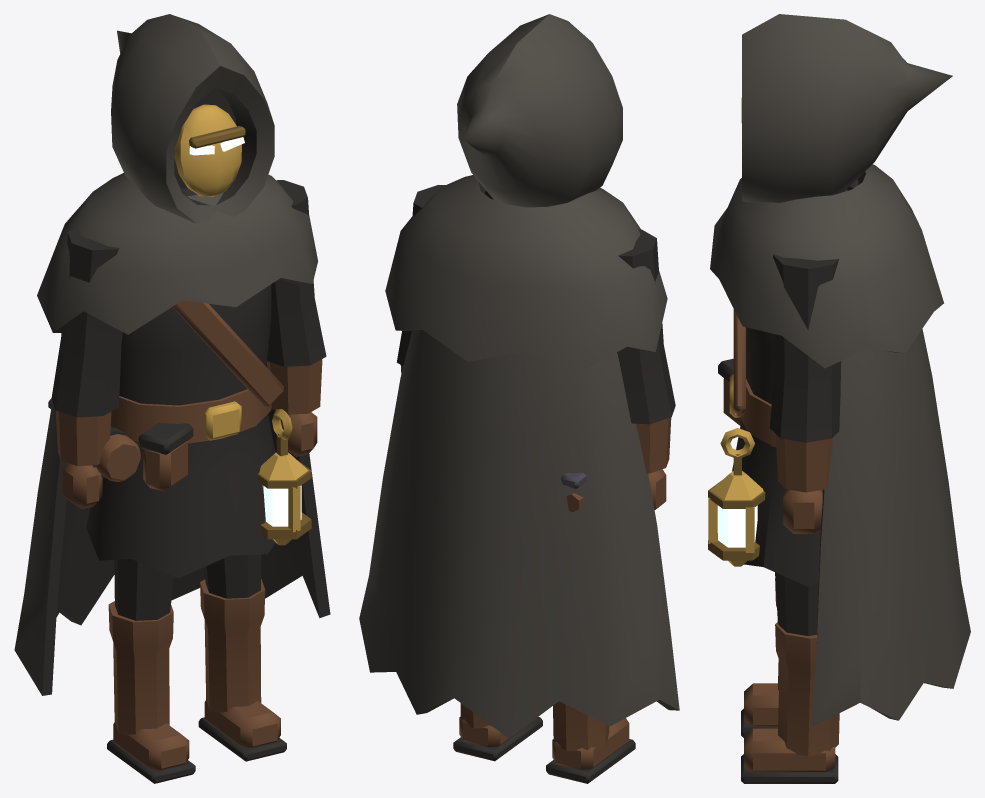
File: Andarilho.fbx
3 views of the same model, side by side, from view 1: azimuth 30°, elevation 25°; view 2: azimuth 150°, elevation 25°; view 3: azimuth 270°, elevation 25° (orthographic).
Parts seen in each view (by area): view 1: Torso, Cabeca, Capa, PernaDir, PernaEsq, BracoDir, BracoEsq, Lanterna; view 2: Capa, Torso, Cabeca, BracoDir, PernaDir, PernaEsq, BracoEsq; view 3: Capa, Torso, Cabeca, BracoEsq, PernaEsq, Lanterna, PernaDir.
Boxes of the visible parts, box(x1,y1,x2,y2) form: Torso: box(37, 173, 317, 578); Cabeca: box(111, 14, 274, 223); Capa: box(14, 363, 330, 695); PernaDir: box(107, 559, 195, 783); PernaEsq: box(198, 554, 286, 761); BracoDir: box(51, 228, 122, 509); BracoEsq: box(267, 180, 326, 456); Lanterna: box(257, 409, 311, 545); Capa: box(359, 329, 679, 738); Torso: box(385, 175, 667, 512); Cabeca: box(457, 14, 622, 207); BracoDir: box(617, 229, 675, 509); PernaDir: box(546, 701, 635, 783); PernaEsq: box(453, 703, 542, 761); BracoEsq: box(396, 185, 445, 373); Capa: box(811, 179, 970, 726); Torso: box(710, 164, 943, 586); Cabeca: box(741, 14, 952, 202); BracoEsq: box(769, 254, 841, 533); PernaEsq: box(741, 572, 839, 783); Lanterna: box(708, 428, 765, 566); PernaDir: box(741, 579, 779, 737).
Bounding box in the file's own units: 0.8417 × 1.97 × 0.6349.
